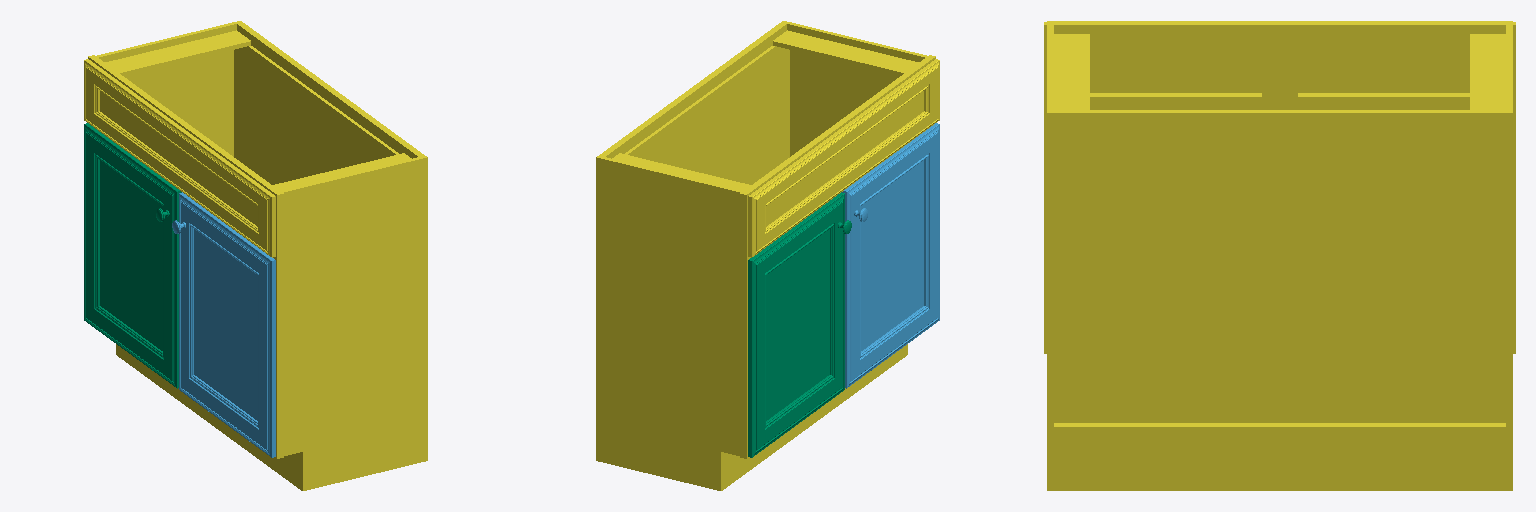
URDF robot description (partnet_2ba392a70c40dac7c59350d819542ec7):
<?xml version="1.0" ?>
<robot name="partnet_2ba392a70c40dac7c59350d819542ec7">
	<link name="base"/>
	<link name="link_0">
		<visual name="cabinet_door_surface-8">
			<origin xyz="-0.6816896693699362 -0.3739669919013977 -0.31955384088570554"/>
			<geometry>
				<mesh filename="textured_objs/original-54.obj"/>
			</geometry>
		</visual>
		<visual name="cabinet_door_surface-8">
			<origin xyz="-0.6816896693699362 -0.3739669919013977 -0.31955384088570554"/>
			<geometry>
				<mesh filename="textured_objs/original-57.obj"/>
			</geometry>
		</visual>
		<visual name="cabinet_door_surface-8">
			<origin xyz="-0.6816896693699362 -0.3739669919013977 -0.31955384088570554"/>
			<geometry>
				<mesh filename="textured_objs/original-59.obj"/>
			</geometry>
		</visual>
		<visual name="cabinet_door_surface-8">
			<origin xyz="-0.6816896693699362 -0.3739669919013977 -0.31955384088570554"/>
			<geometry>
				<mesh filename="textured_objs/original-51.obj"/>
			</geometry>
		</visual>
		<visual name="cabinet_door_surface-8">
			<origin xyz="-0.6816896693699362 -0.3739669919013977 -0.31955384088570554"/>
			<geometry>
				<mesh filename="textured_objs/original-56.obj"/>
			</geometry>
		</visual>
		<visual name="cabinet_door_surface-8">
			<origin xyz="-0.6816896693699362 -0.3739669919013977 -0.31955384088570554"/>
			<geometry>
				<mesh filename="textured_objs/original-50.obj"/>
			</geometry>
		</visual>
		<visual name="cabinet_door_surface-8">
			<origin xyz="-0.6816896693699362 -0.3739669919013977 -0.31955384088570554"/>
			<geometry>
				<mesh filename="textured_objs/original-55.obj"/>
			</geometry>
		</visual>
		<visual name="cabinet_door_surface-8">
			<origin xyz="-0.6816896693699362 -0.3739669919013977 -0.31955384088570554"/>
			<geometry>
				<mesh filename="textured_objs/original-52.obj"/>
			</geometry>
		</visual>
		<visual name="cabinet_door_surface-8">
			<origin xyz="-0.6816896693699362 -0.3739669919013977 -0.31955384088570554"/>
			<geometry>
				<mesh filename="textured_objs/original-53.obj"/>
			</geometry>
		</visual>
		<visual name="cabinet_door_surface-8">
			<origin xyz="-0.6816896693699362 -0.3739669919013977 -0.31955384088570554"/>
			<geometry>
				<mesh filename="textured_objs/original-60.obj"/>
			</geometry>
		</visual>
		<visual name="handle-9">
			<origin xyz="-0.6816896693699362 -0.3739669919013977 -0.31955384088570554"/>
			<geometry>
				<mesh filename="textured_objs/original-61.obj"/>
			</geometry>
		</visual>
		<collision>
			<origin xyz="-0.6816896693699362 -0.3739669919013977 -0.31955384088570554"/>
			<geometry>
				<mesh filename="textured_objs/original-54.obj"/>
			</geometry>
		</collision>
		<collision>
			<origin xyz="-0.6816896693699362 -0.3739669919013977 -0.31955384088570554"/>
			<geometry>
				<mesh filename="textured_objs/original-57.obj"/>
			</geometry>
		</collision>
		<collision>
			<origin xyz="-0.6816896693699362 -0.3739669919013977 -0.31955384088570554"/>
			<geometry>
				<mesh filename="textured_objs/original-59.obj"/>
			</geometry>
		</collision>
		<collision>
			<origin xyz="-0.6816896693699362 -0.3739669919013977 -0.31955384088570554"/>
			<geometry>
				<mesh filename="textured_objs/original-51.obj"/>
			</geometry>
		</collision>
		<collision>
			<origin xyz="-0.6816896693699362 -0.3739669919013977 -0.31955384088570554"/>
			<geometry>
				<mesh filename="textured_objs/original-56.obj"/>
			</geometry>
		</collision>
		<collision>
			<origin xyz="-0.6816896693699362 -0.3739669919013977 -0.31955384088570554"/>
			<geometry>
				<mesh filename="textured_objs/original-50.obj"/>
			</geometry>
		</collision>
		<collision>
			<origin xyz="-0.6816896693699362 -0.3739669919013977 -0.31955384088570554"/>
			<geometry>
				<mesh filename="textured_objs/original-55.obj"/>
			</geometry>
		</collision>
		<collision>
			<origin xyz="-0.6816896693699362 -0.3739669919013977 -0.31955384088570554"/>
			<geometry>
				<mesh filename="textured_objs/original-52.obj"/>
			</geometry>
		</collision>
		<collision>
			<origin xyz="-0.6816896693699362 -0.3739669919013977 -0.31955384088570554"/>
			<geometry>
				<mesh filename="textured_objs/original-53.obj"/>
			</geometry>
		</collision>
		<collision>
			<origin xyz="-0.6816896693699362 -0.3739669919013977 -0.31955384088570554"/>
			<geometry>
				<mesh filename="textured_objs/original-60.obj"/>
			</geometry>
		</collision>
		<collision>
			<origin xyz="-0.6816896693699362 -0.3739669919013977 -0.31955384088570554"/>
			<geometry>
				<mesh filename="textured_objs/original-61.obj"/>
			</geometry>
		</collision>
	</link>
	<joint name="joint_0" type="revolute">
		<origin xyz="0.6816896693699362 0.3739669919013977 0.31955384088570554"/>
		<axis xyz="0 1 0"/>
		<child link="link_0"/>
		<parent link="link_2"/>
		<limit lower="0.0" upper="1.627344994559513"/>
	</joint>
	<link name="link_1">
		<visual name="cabinet_door_surface-6">
			<origin xyz="0.702699864624828 0.4395659863948822 -0.31661926594260276"/>
			<geometry>
				<mesh filename="textured_objs/original-46.obj"/>
			</geometry>
		</visual>
		<visual name="cabinet_door_surface-6">
			<origin xyz="0.702699864624828 0.4395659863948822 -0.31661926594260276"/>
			<geometry>
				<mesh filename="textured_objs/original-41.obj"/>
			</geometry>
		</visual>
		<visual name="cabinet_door_surface-6">
			<origin xyz="0.702699864624828 0.4395659863948822 -0.31661926594260276"/>
			<geometry>
				<mesh filename="textured_objs/original-37.obj"/>
			</geometry>
		</visual>
		<visual name="cabinet_door_surface-6">
			<origin xyz="0.702699864624828 0.4395659863948822 -0.31661926594260276"/>
			<geometry>
				<mesh filename="textured_objs/original-43.obj"/>
			</geometry>
		</visual>
		<visual name="cabinet_door_surface-6">
			<origin xyz="0.702699864624828 0.4395659863948822 -0.31661926594260276"/>
			<geometry>
				<mesh filename="textured_objs/original-40.obj"/>
			</geometry>
		</visual>
		<visual name="cabinet_door_surface-6">
			<origin xyz="0.702699864624828 0.4395659863948822 -0.31661926594260276"/>
			<geometry>
				<mesh filename="textured_objs/original-42.obj"/>
			</geometry>
		</visual>
		<visual name="cabinet_door_surface-6">
			<origin xyz="0.702699864624828 0.4395659863948822 -0.31661926594260276"/>
			<geometry>
				<mesh filename="textured_objs/original-39.obj"/>
			</geometry>
		</visual>
		<visual name="cabinet_door_surface-6">
			<origin xyz="0.702699864624828 0.4395659863948822 -0.31661926594260276"/>
			<geometry>
				<mesh filename="textured_objs/original-44.obj"/>
			</geometry>
		</visual>
		<visual name="cabinet_door_surface-6">
			<origin xyz="0.702699864624828 0.4395659863948822 -0.31661926594260276"/>
			<geometry>
				<mesh filename="textured_objs/original-38.obj"/>
			</geometry>
		</visual>
		<visual name="cabinet_door_surface-6">
			<origin xyz="0.702699864624828 0.4395659863948822 -0.31661926594260276"/>
			<geometry>
				<mesh filename="textured_objs/original-47.obj"/>
			</geometry>
		</visual>
		<visual name="handle-7">
			<origin xyz="0.702699864624828 0.4395659863948822 -0.31661926594260276"/>
			<geometry>
				<mesh filename="textured_objs/original-48.obj"/>
			</geometry>
		</visual>
		<collision>
			<origin xyz="0.702699864624828 0.4395659863948822 -0.31661926594260276"/>
			<geometry>
				<mesh filename="textured_objs/original-46.obj"/>
			</geometry>
		</collision>
		<collision>
			<origin xyz="0.702699864624828 0.4395659863948822 -0.31661926594260276"/>
			<geometry>
				<mesh filename="textured_objs/original-41.obj"/>
			</geometry>
		</collision>
		<collision>
			<origin xyz="0.702699864624828 0.4395659863948822 -0.31661926594260276"/>
			<geometry>
				<mesh filename="textured_objs/original-37.obj"/>
			</geometry>
		</collision>
		<collision>
			<origin xyz="0.702699864624828 0.4395659863948822 -0.31661926594260276"/>
			<geometry>
				<mesh filename="textured_objs/original-43.obj"/>
			</geometry>
		</collision>
		<collision>
			<origin xyz="0.702699864624828 0.4395659863948822 -0.31661926594260276"/>
			<geometry>
				<mesh filename="textured_objs/original-40.obj"/>
			</geometry>
		</collision>
		<collision>
			<origin xyz="0.702699864624828 0.4395659863948822 -0.31661926594260276"/>
			<geometry>
				<mesh filename="textured_objs/original-42.obj"/>
			</geometry>
		</collision>
		<collision>
			<origin xyz="0.702699864624828 0.4395659863948822 -0.31661926594260276"/>
			<geometry>
				<mesh filename="textured_objs/original-39.obj"/>
			</geometry>
		</collision>
		<collision>
			<origin xyz="0.702699864624828 0.4395659863948822 -0.31661926594260276"/>
			<geometry>
				<mesh filename="textured_objs/original-44.obj"/>
			</geometry>
		</collision>
		<collision>
			<origin xyz="0.702699864624828 0.4395659863948822 -0.31661926594260276"/>
			<geometry>
				<mesh filename="textured_objs/original-38.obj"/>
			</geometry>
		</collision>
		<collision>
			<origin xyz="0.702699864624828 0.4395659863948822 -0.31661926594260276"/>
			<geometry>
				<mesh filename="textured_objs/original-47.obj"/>
			</geometry>
		</collision>
		<collision>
			<origin xyz="0.702699864624828 0.4395659863948822 -0.31661926594260276"/>
			<geometry>
				<mesh filename="textured_objs/original-48.obj"/>
			</geometry>
		</collision>
	</link>
	<joint name="joint_1" type="revolute">
		<origin xyz="-0.702699864624828 -0.4395659863948822 0.31661926594260276"/>
		<axis xyz="0 -1 0"/>
		<child link="link_1"/>
		<parent link="link_2"/>
		<limit lower="0.0" upper="1.627344994559513"/>
	</joint>
	<link name="link_2">
		<visual name="vertical_side_panel-37">
			<origin xyz="0 0 0"/>
			<geometry>
				<mesh filename="textured_objs/original-11.obj"/>
			</geometry>
		</visual>
		<visual name="vertical_side_panel-37">
			<origin xyz="0 0 0"/>
			<geometry>
				<mesh filename="textured_objs/original-10.obj"/>
			</geometry>
		</visual>
		<visual name="vertical_side_panel-38">
			<origin xyz="0 0 0"/>
			<geometry>
				<mesh filename="textured_objs/original-15.obj"/>
			</geometry>
		</visual>
		<visual name="vertical_side_panel-38">
			<origin xyz="0 0 0"/>
			<geometry>
				<mesh filename="textured_objs/original-14.obj"/>
			</geometry>
		</visual>
		<visual name="vertical_front_panel-39">
			<origin xyz="0 0 0"/>
			<geometry>
				<mesh filename="textured_objs/original-31.obj"/>
			</geometry>
		</visual>
		<visual name="vertical_front_panel-39">
			<origin xyz="0 0 0"/>
			<geometry>
				<mesh filename="textured_objs/original-28.obj"/>
			</geometry>
		</visual>
		<visual name="vertical_front_panel-39">
			<origin xyz="0 0 0"/>
			<geometry>
				<mesh filename="textured_objs/original-30.obj"/>
			</geometry>
		</visual>
		<visual name="vertical_front_panel-39">
			<origin xyz="0 0 0"/>
			<geometry>
				<mesh filename="textured_objs/original-34.obj"/>
			</geometry>
		</visual>
		<visual name="vertical_front_panel-39">
			<origin xyz="0 0 0"/>
			<geometry>
				<mesh filename="textured_objs/original-25.obj"/>
			</geometry>
		</visual>
		<visual name="vertical_front_panel-39">
			<origin xyz="0 0 0"/>
			<geometry>
				<mesh filename="textured_objs/original-29.obj"/>
			</geometry>
		</visual>
		<visual name="vertical_front_panel-39">
			<origin xyz="0 0 0"/>
			<geometry>
				<mesh filename="textured_objs/original-26.obj"/>
			</geometry>
		</visual>
		<visual name="vertical_front_panel-39">
			<origin xyz="0 0 0"/>
			<geometry>
				<mesh filename="textured_objs/original-32.obj"/>
			</geometry>
		</visual>
		<visual name="vertical_front_panel-39">
			<origin xyz="0 0 0"/>
			<geometry>
				<mesh filename="textured_objs/original-27.obj"/>
			</geometry>
		</visual>
		<visual name="vertical_front_panel-39">
			<origin xyz="0 0 0"/>
			<geometry>
				<mesh filename="textured_objs/original-35.obj"/>
			</geometry>
		</visual>
		<visual name="back_panel-40">
			<origin xyz="0 0 0"/>
			<geometry>
				<mesh filename="textured_objs/original-5.obj"/>
			</geometry>
		</visual>
		<visual name="bottom_panel-41">
			<origin xyz="0 0 0"/>
			<geometry>
				<mesh filename="textured_objs/original-2.obj"/>
			</geometry>
		</visual>
		<visual name="frame_vertical_bar-42">
			<origin xyz="0 0 0"/>
			<geometry>
				<mesh filename="textured_objs/original-3.obj"/>
			</geometry>
		</visual>
		<visual name="frame_vertical_bar-43">
			<origin xyz="0 0 0"/>
			<geometry>
				<mesh filename="textured_objs/original-7.obj"/>
			</geometry>
		</visual>
		<visual name="frame_vertical_bar-44">
			<origin xyz="0 0 0"/>
			<geometry>
				<mesh filename="textured_objs/original-23.obj"/>
			</geometry>
		</visual>
		<visual name="frame_vertical_bar-44">
			<origin xyz="0 0 0"/>
			<geometry>
				<mesh filename="textured_objs/original-17.obj"/>
			</geometry>
		</visual>
		<visual name="frame_horizontal_bar-45">
			<origin xyz="0 0 0"/>
			<geometry>
				<mesh filename="textured_objs/original-4.obj"/>
			</geometry>
		</visual>
		<visual name="frame_horizontal_bar-46">
			<origin xyz="0 0 0"/>
			<geometry>
				<mesh filename="textured_objs/original-22.obj"/>
			</geometry>
		</visual>
		<visual name="frame_horizontal_bar-47">
			<origin xyz="0 0 0"/>
			<geometry>
				<mesh filename="textured_objs/original-21.obj"/>
			</geometry>
		</visual>
		<visual name="frame_horizontal_bar-48">
			<origin xyz="0 0 0"/>
			<geometry>
				<mesh filename="textured_objs/original-8.obj"/>
			</geometry>
		</visual>
		<visual name="frame_horizontal_bar-49">
			<origin xyz="0 0 0"/>
			<geometry>
				<mesh filename="textured_objs/original-18.obj"/>
			</geometry>
		</visual>
		<visual name="frame_horizontal_bar-50">
			<origin xyz="0 0 0"/>
			<geometry>
				<mesh filename="textured_objs/original-6.obj"/>
			</geometry>
		</visual>
		<visual name="other_leaf-52">
			<origin xyz="0 0 0"/>
			<geometry>
				<mesh filename="textured_objs/original-62.obj"/>
			</geometry>
		</visual>
		<visual name="base_side_panel-17">
			<origin xyz="0 0 0"/>
			<geometry>
				<mesh filename="textured_objs/original-12.obj"/>
			</geometry>
		</visual>
		<visual name="base_side_panel-18">
			<origin xyz="0 0 0"/>
			<geometry>
				<mesh filename="textured_objs/original-19.obj"/>
			</geometry>
		</visual>
		<visual name="base_side_panel-19">
			<origin xyz="0 0 0"/>
			<geometry>
				<mesh filename="textured_objs/original-16.obj"/>
			</geometry>
		</visual>
		<visual name="base_side_panel-20">
			<origin xyz="0 0 0"/>
			<geometry>
				<mesh filename="textured_objs/original-20.obj"/>
			</geometry>
		</visual>
		<collision>
			<origin xyz="0 0 0"/>
			<geometry>
				<mesh filename="textured_objs/original-11.obj"/>
			</geometry>
		</collision>
		<collision>
			<origin xyz="0 0 0"/>
			<geometry>
				<mesh filename="textured_objs/original-10.obj"/>
			</geometry>
		</collision>
		<collision>
			<origin xyz="0 0 0"/>
			<geometry>
				<mesh filename="textured_objs/original-15.obj"/>
			</geometry>
		</collision>
		<collision>
			<origin xyz="0 0 0"/>
			<geometry>
				<mesh filename="textured_objs/original-14.obj"/>
			</geometry>
		</collision>
		<collision>
			<origin xyz="0 0 0"/>
			<geometry>
				<mesh filename="textured_objs/original-31.obj"/>
			</geometry>
		</collision>
		<collision>
			<origin xyz="0 0 0"/>
			<geometry>
				<mesh filename="textured_objs/original-28.obj"/>
			</geometry>
		</collision>
		<collision>
			<origin xyz="0 0 0"/>
			<geometry>
				<mesh filename="textured_objs/original-30.obj"/>
			</geometry>
		</collision>
		<collision>
			<origin xyz="0 0 0"/>
			<geometry>
				<mesh filename="textured_objs/original-34.obj"/>
			</geometry>
		</collision>
		<collision>
			<origin xyz="0 0 0"/>
			<geometry>
				<mesh filename="textured_objs/original-25.obj"/>
			</geometry>
		</collision>
		<collision>
			<origin xyz="0 0 0"/>
			<geometry>
				<mesh filename="textured_objs/original-29.obj"/>
			</geometry>
		</collision>
		<collision>
			<origin xyz="0 0 0"/>
			<geometry>
				<mesh filename="textured_objs/original-26.obj"/>
			</geometry>
		</collision>
		<collision>
			<origin xyz="0 0 0"/>
			<geometry>
				<mesh filename="textured_objs/original-32.obj"/>
			</geometry>
		</collision>
		<collision>
			<origin xyz="0 0 0"/>
			<geometry>
				<mesh filename="textured_objs/original-27.obj"/>
			</geometry>
		</collision>
		<collision>
			<origin xyz="0 0 0"/>
			<geometry>
				<mesh filename="textured_objs/original-35.obj"/>
			</geometry>
		</collision>
		<collision>
			<origin xyz="0 0 0"/>
			<geometry>
				<mesh filename="textured_objs/original-5.obj"/>
			</geometry>
		</collision>
		<collision>
			<origin xyz="0 0 0"/>
			<geometry>
				<mesh filename="textured_objs/original-2.obj"/>
			</geometry>
		</collision>
		<collision>
			<origin xyz="0 0 0"/>
			<geometry>
				<mesh filename="textured_objs/original-3.obj"/>
			</geometry>
		</collision>
		<collision>
			<origin xyz="0 0 0"/>
			<geometry>
				<mesh filename="textured_objs/original-7.obj"/>
			</geometry>
		</collision>
		<collision>
			<origin xyz="0 0 0"/>
			<geometry>
				<mesh filename="textured_objs/original-23.obj"/>
			</geometry>
		</collision>
		<collision>
			<origin xyz="0 0 0"/>
			<geometry>
				<mesh filename="textured_objs/original-17.obj"/>
			</geometry>
		</collision>
		<collision>
			<origin xyz="0 0 0"/>
			<geometry>
				<mesh filename="textured_objs/original-4.obj"/>
			</geometry>
		</collision>
		<collision>
			<origin xyz="0 0 0"/>
			<geometry>
				<mesh filename="textured_objs/original-22.obj"/>
			</geometry>
		</collision>
		<collision>
			<origin xyz="0 0 0"/>
			<geometry>
				<mesh filename="textured_objs/original-21.obj"/>
			</geometry>
		</collision>
		<collision>
			<origin xyz="0 0 0"/>
			<geometry>
				<mesh filename="textured_objs/original-8.obj"/>
			</geometry>
		</collision>
		<collision>
			<origin xyz="0 0 0"/>
			<geometry>
				<mesh filename="textured_objs/original-18.obj"/>
			</geometry>
		</collision>
		<collision>
			<origin xyz="0 0 0"/>
			<geometry>
				<mesh filename="textured_objs/original-6.obj"/>
			</geometry>
		</collision>
		<collision>
			<origin xyz="0 0 0"/>
			<geometry>
				<mesh filename="textured_objs/original-62.obj"/>
			</geometry>
		</collision>
		<collision>
			<origin xyz="0 0 0"/>
			<geometry>
				<mesh filename="textured_objs/original-12.obj"/>
			</geometry>
		</collision>
		<collision>
			<origin xyz="0 0 0"/>
			<geometry>
				<mesh filename="textured_objs/original-19.obj"/>
			</geometry>
		</collision>
		<collision>
			<origin xyz="0 0 0"/>
			<geometry>
				<mesh filename="textured_objs/original-16.obj"/>
			</geometry>
		</collision>
		<collision>
			<origin xyz="0 0 0"/>
			<geometry>
				<mesh filename="textured_objs/original-20.obj"/>
			</geometry>
		</collision>
	</link>
	<joint name="joint_2" type="fixed">
		<origin rpy="1.570796326794897 0 -1.570796326794897" xyz="0 0 0"/>
		<child link="link_2"/>
		<parent link="base"/>
	</joint>
</robot>

--- Facts derived from the render (not from the file) ---
The picture shows the robot from 3 angles, left to right: view 1: azimuth 30°, elevation 25°; view 2: azimuth 150°, elevation 25°; view 3: azimuth 270°, elevation 25°; orthographic projection.
Model partnet_2ba392a70c40dac7c59350d819542ec7 with 4 links and 3 joints (2 revolute, 1 fixed), rooted at base, posed every joint at zero.
Visible links, largest first — view 1: link_2, link_0, link_1; view 2: link_2, link_1, link_0; view 3: link_2.
Boxes of the visible links, x1,y1,x2,y2 form: link_2: (84, 21, 427, 490); link_0: (172, 192, 275, 457); link_1: (84, 123, 181, 388); link_2: (596, 21, 939, 490); link_1: (748, 192, 851, 457); link_0: (842, 123, 939, 388); link_2: (1044, 21, 1515, 490).
Bounding box of the posed robot: 0.7249 × 1.42 × 1.25 m (x, y, z).
Meshes: 53 distinct files referenced, 53 mesh visuals loaded (53 OBJ).
